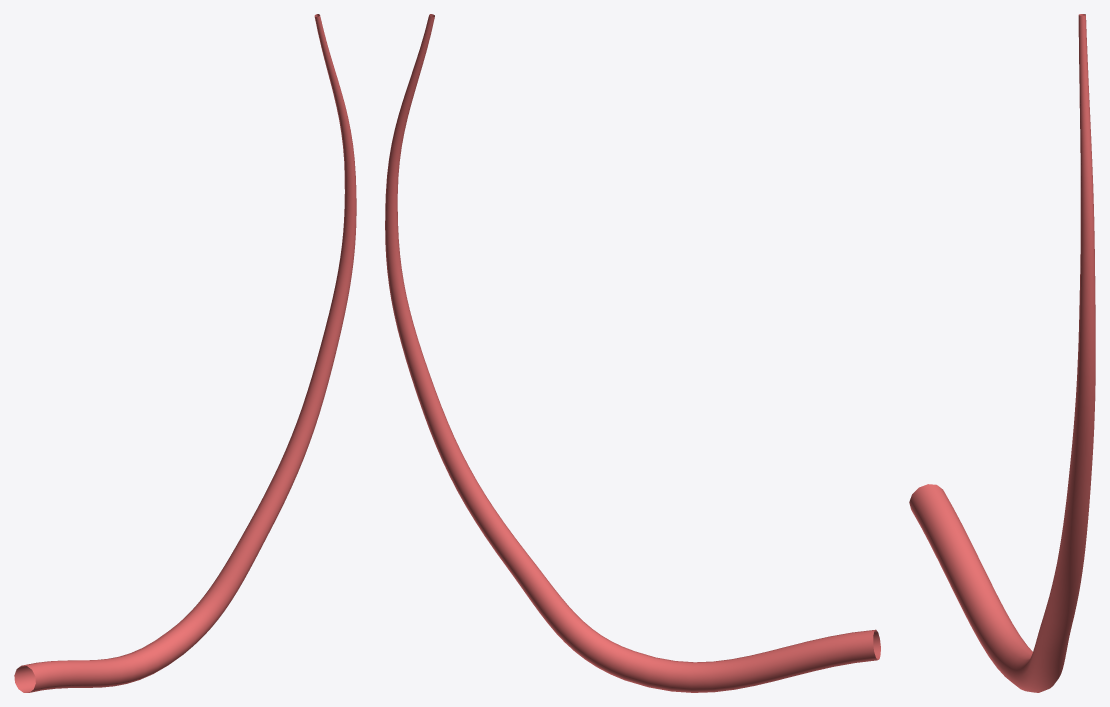
Rendered from Accessory_branch_middle_meningeal_artery_right_001.glb.
3 renders of one model, left to right at view 1: azimuth 30°, elevation 25°; view 2: azimuth 150°, elevation 25°; view 3: azimuth 270°, elevation 25°, orthographic. The views are drawn at different scales.
Visible parts, largest first — view 1: Accessory_branch_of_middle_meningeal_artery.r.001_BezierCurv; view 2: Accessory_branch_of_middle_meningeal_artery.r.001_BezierCurv; view 3: Accessory_branch_of_middle_meningeal_artery.r.001_BezierCurv.
Part boxes in pixels (x1,y1,x2,y2): Accessory_branch_of_middle_meningeal_artery.r.001_BezierCurv: [14, 14, 356, 692]; Accessory_branch_of_middle_meningeal_artery.r.001_BezierCurv: [385, 14, 880, 692]; Accessory_branch_of_middle_meningeal_artery.r.001_BezierCurv: [909, 14, 1095, 692].
Bounding box in the file's own units: 0.0161 × 0.023 × 0.00494.
